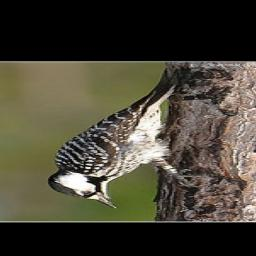Woodpecker: (46, 67, 211, 209)
